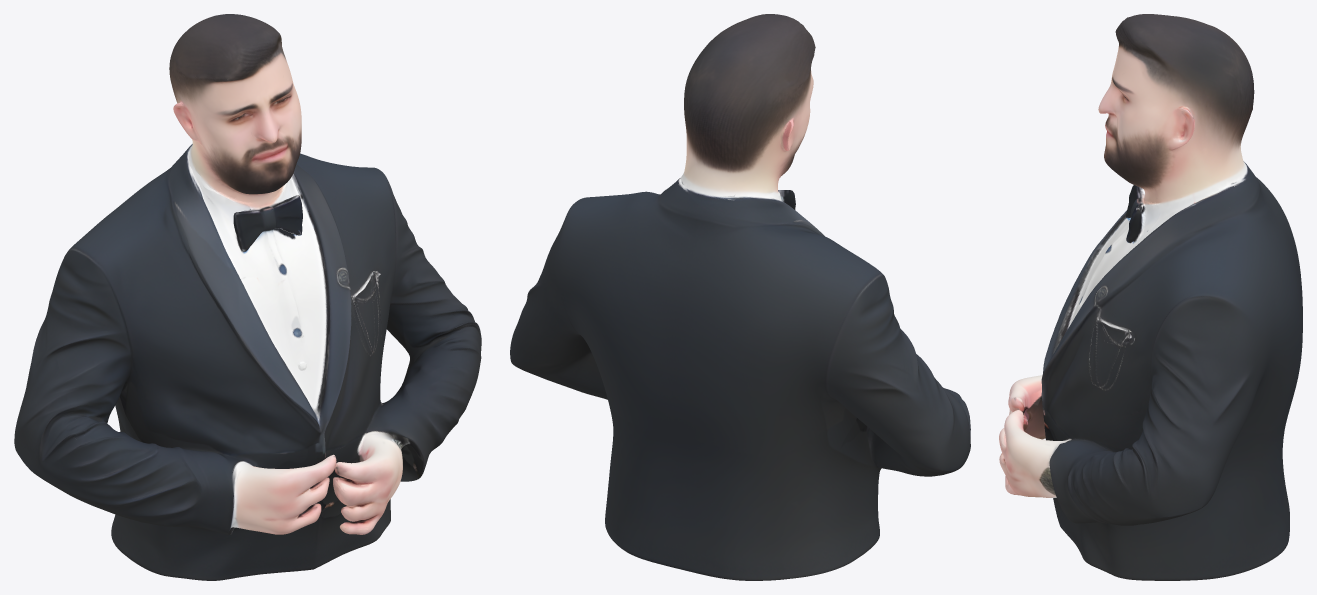
The model's file is base_basic_shaded.gltf.
3 renders of one model, left to right at view 1: azimuth 30°, elevation 25°; view 2: azimuth 150°, elevation 25°; view 3: azimuth 270°, elevation 25°, orthographic. The views are drawn at different scales.
Parts seen in each view (by area): view 1: model; view 2: model; view 3: model.
Part boxes in pixels (box(x1,y1,x2,y2)): model: box(14, 14, 481, 580); model: box(510, 14, 970, 580); model: box(999, 14, 1302, 580).
Size of the model in its own units: 1.72 by 1.9 by 1.05.
1 material, 1 textured.
